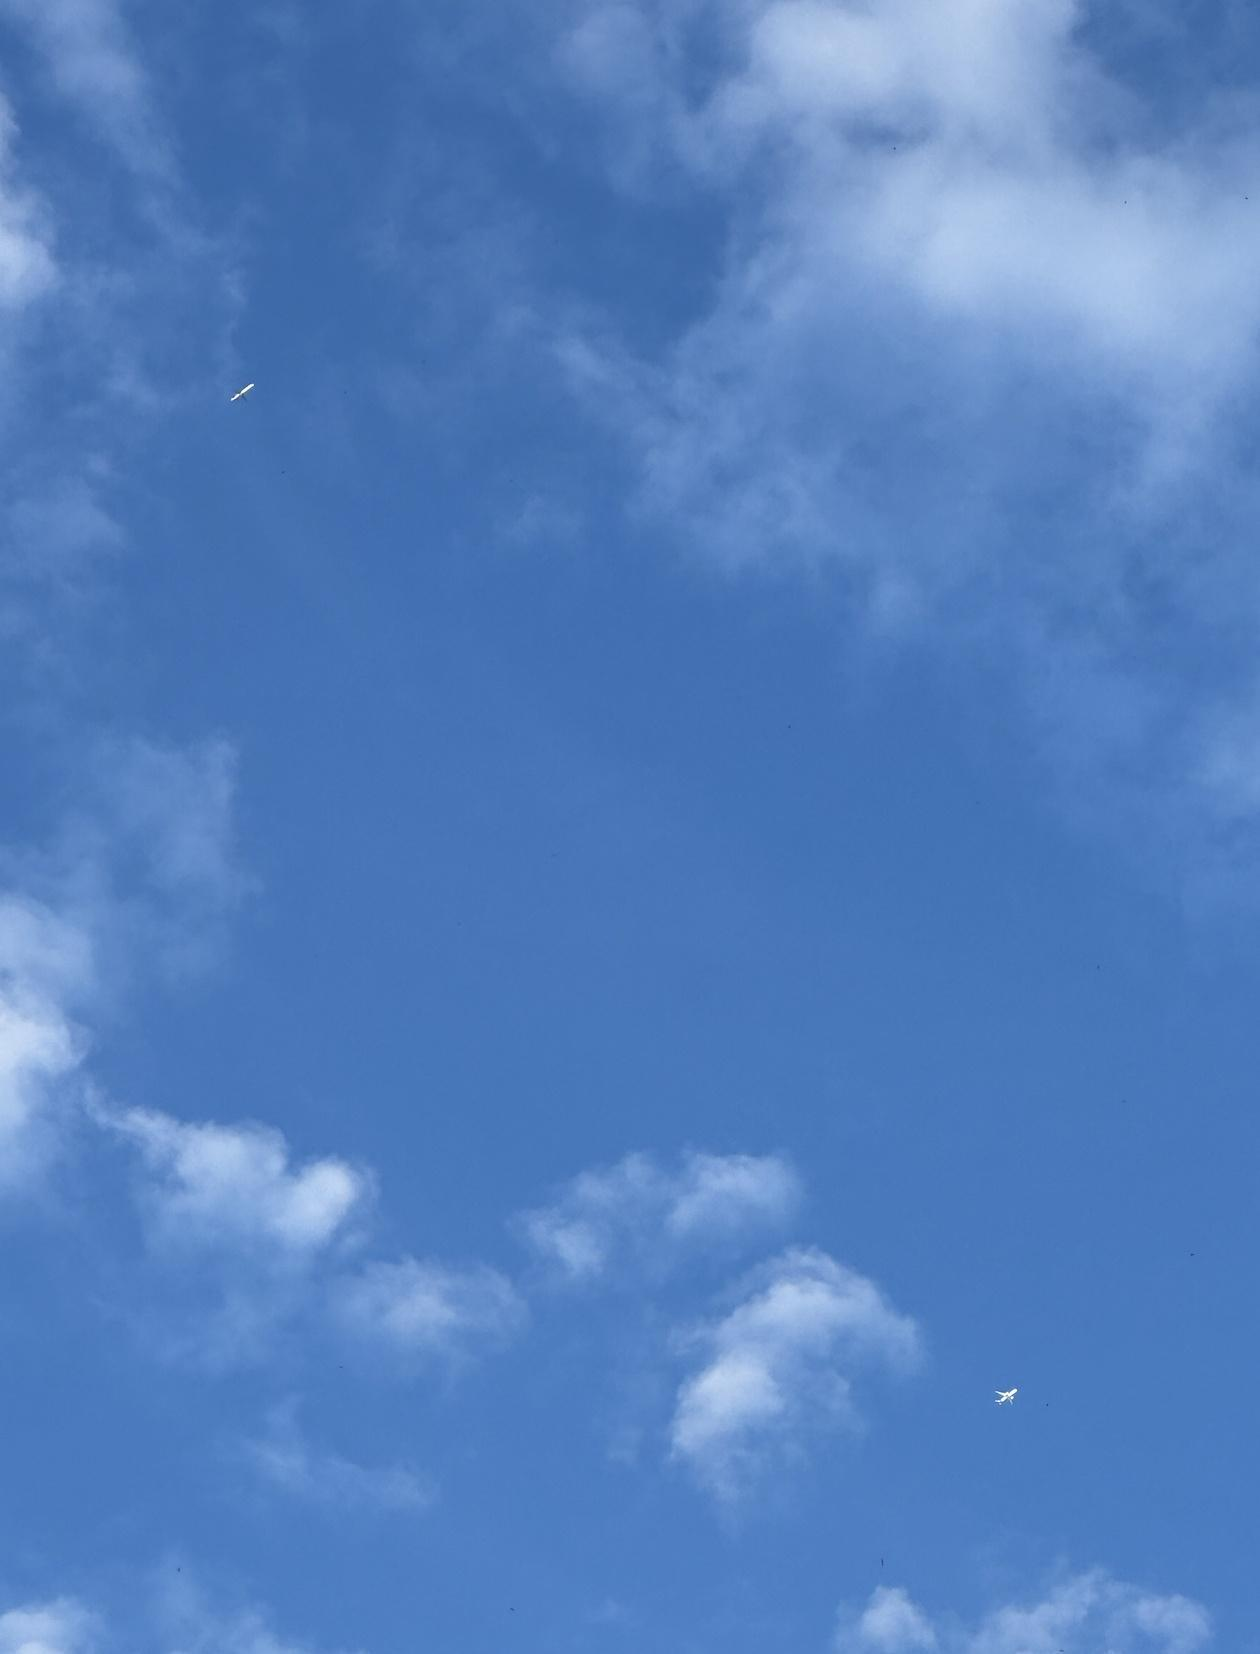Plane: (977, 1355, 1044, 1421), (209, 353, 279, 408)
